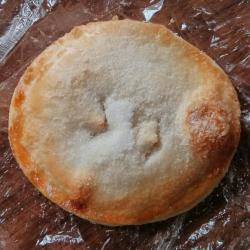apple_pie: (8, 15, 245, 226)
